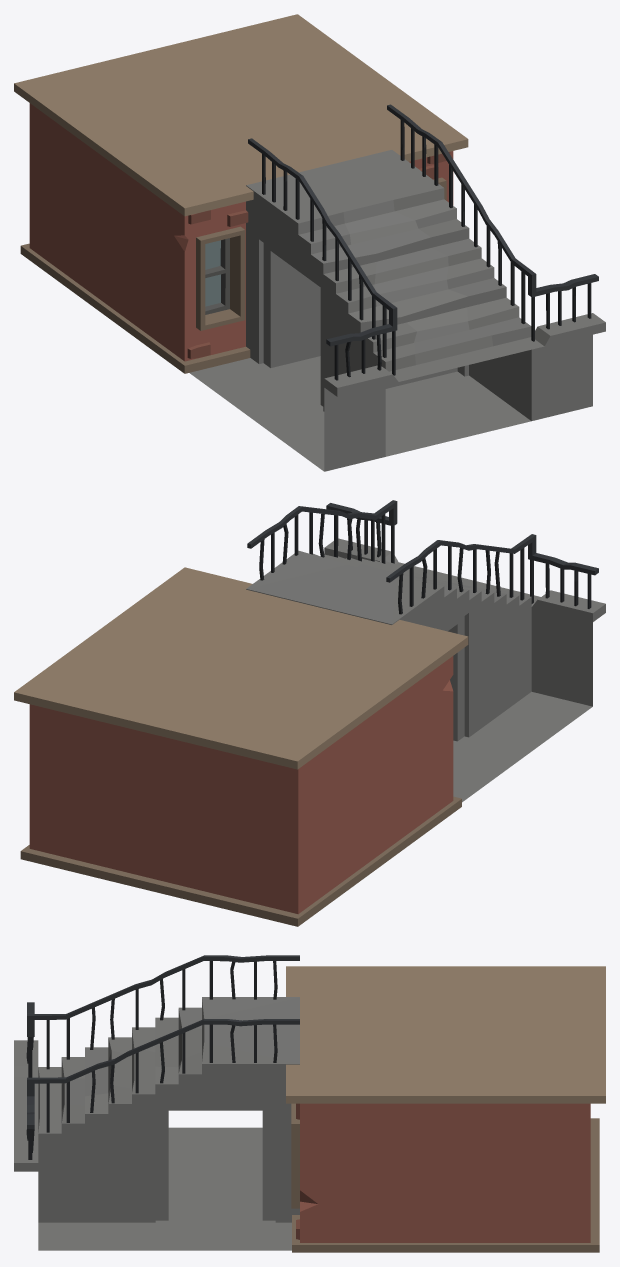
Rendered from SM_Bld_Apartment_Stairs_02.fbx.
3 views of the same model, one above another, from view 1: azimuth 30°, elevation 25°; view 2: azimuth 150°, elevation 25°; view 3: azimuth 270°, elevation 25° (orthographic). The views are drawn at different scales.
Parts seen in each view (by area): view 1: SM_Bld_Apartment_Stairs_02; view 2: SM_Bld_Apartment_Stairs_02; view 3: SM_Bld_Apartment_Stairs_02.
Boxes of the visible parts, bbox=[...] form: SM_Bld_Apartment_Stairs_02: bbox=[14, 14, 605, 471]; SM_Bld_Apartment_Stairs_02: bbox=[14, 500, 605, 926]; SM_Bld_Apartment_Stairs_02: bbox=[14, 955, 605, 1252].
Size of the model in its own units: 528 by 382 by 1018.
